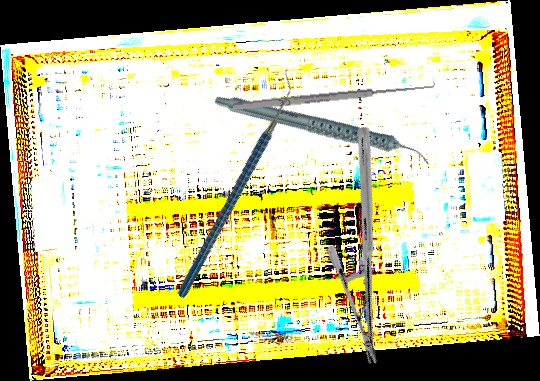Chopper: (116, 68, 354, 299)
Handpiece: (211, 53, 433, 208)
Hook Surgical: (231, 72, 436, 114)
Needle Holder: (259, 122, 476, 369)
